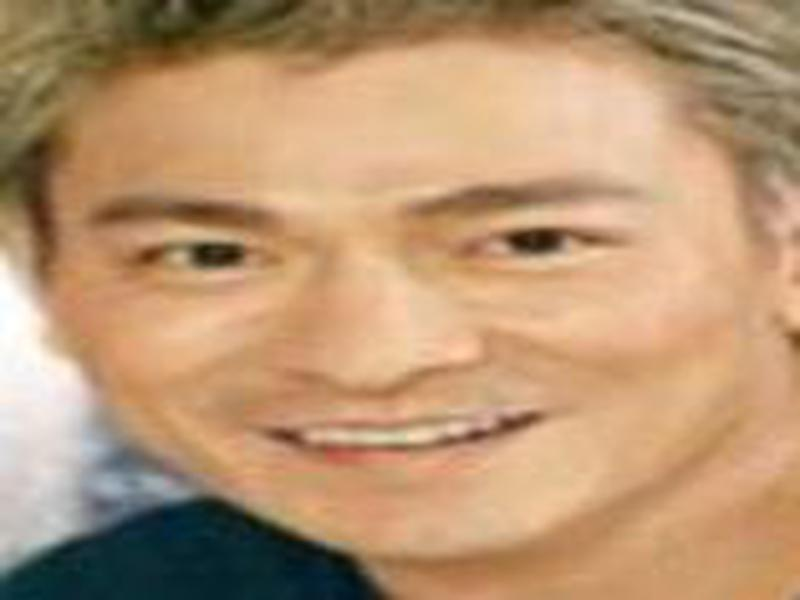without_mask: (48, 55, 753, 563)
